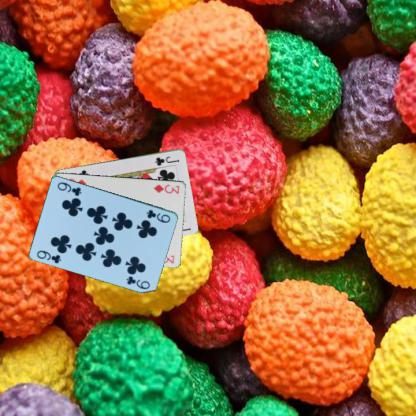3d: (151, 181, 181, 195)
9c: (144, 207, 171, 224), (35, 248, 62, 264)
Jc: (153, 153, 180, 167)
